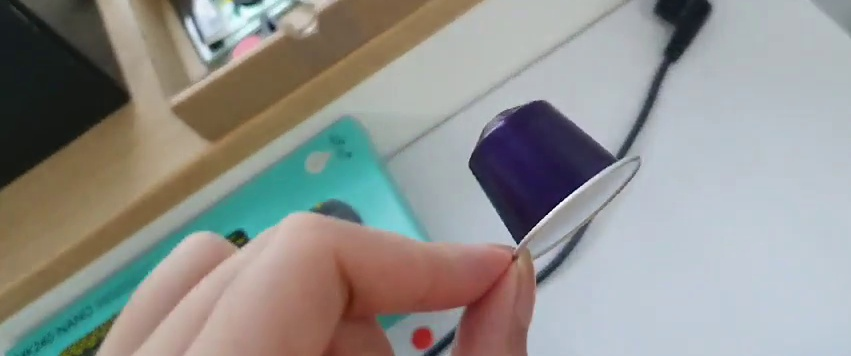capsule_11: (467, 99, 643, 263)
